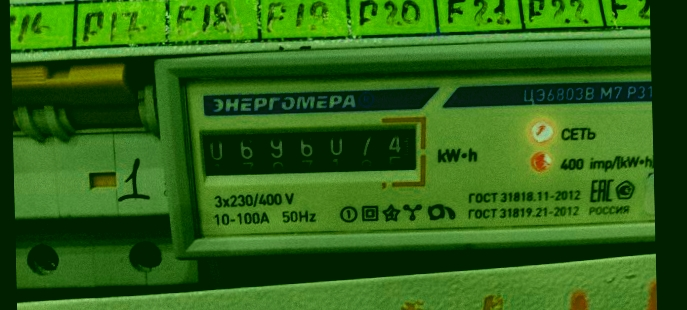0: (205, 135, 225, 160), (327, 130, 344, 156)
4: (385, 129, 402, 151)
5: (387, 154, 403, 169)
6: (298, 131, 316, 157), (237, 134, 255, 159)
7: (357, 131, 375, 156)
9: (267, 133, 284, 159)
screen: (189, 111, 431, 186)
